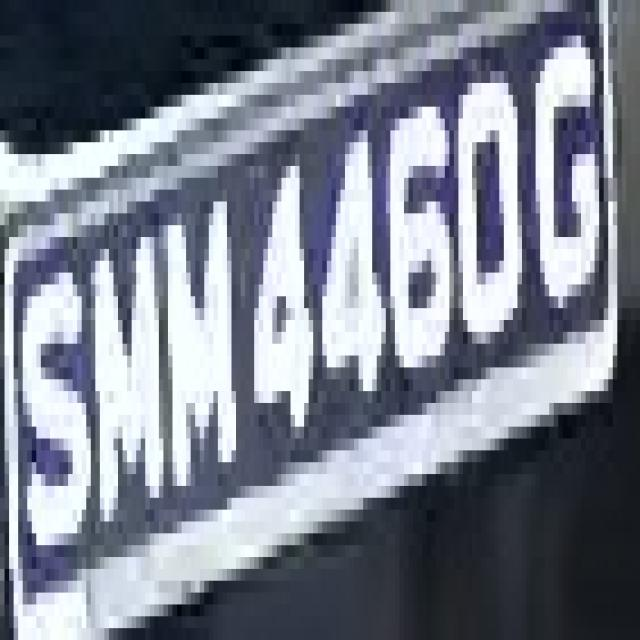0: (449, 83, 531, 367)
4: (236, 118, 318, 486), (304, 95, 381, 415)
6: (372, 71, 458, 379)
G: (518, 24, 599, 320)
M: (150, 142, 240, 522), (77, 189, 159, 522)
S: (14, 249, 95, 533)
